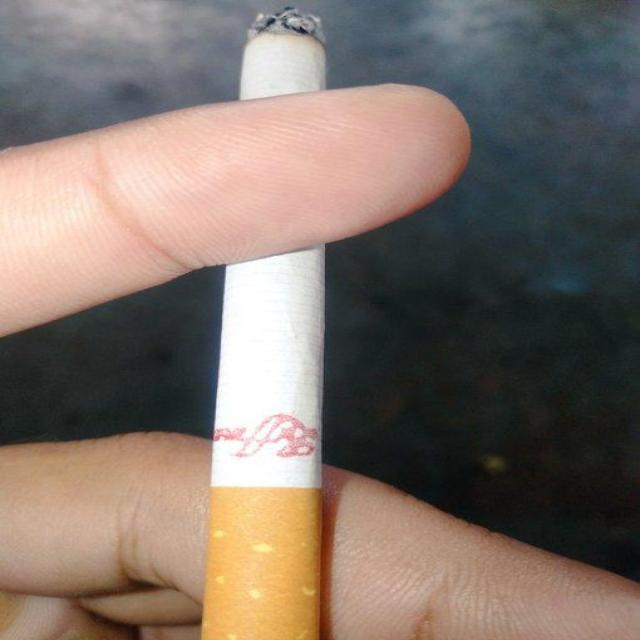rokok: (178, 8, 342, 640)
